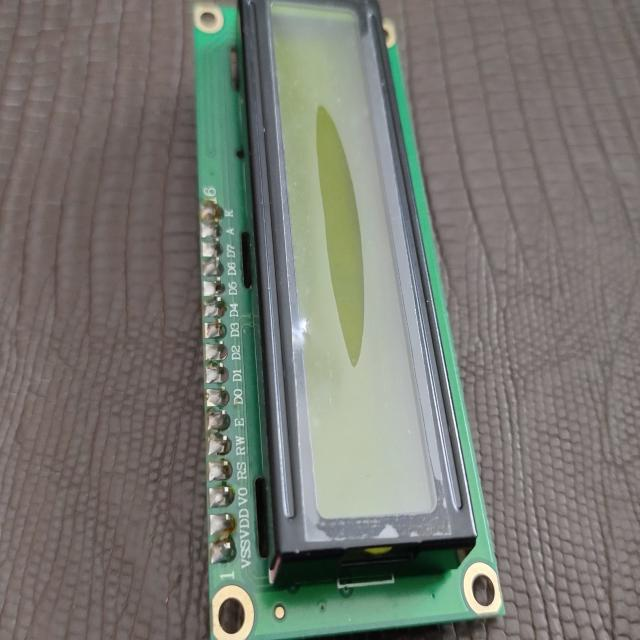lcd: (193, 1, 506, 637)
